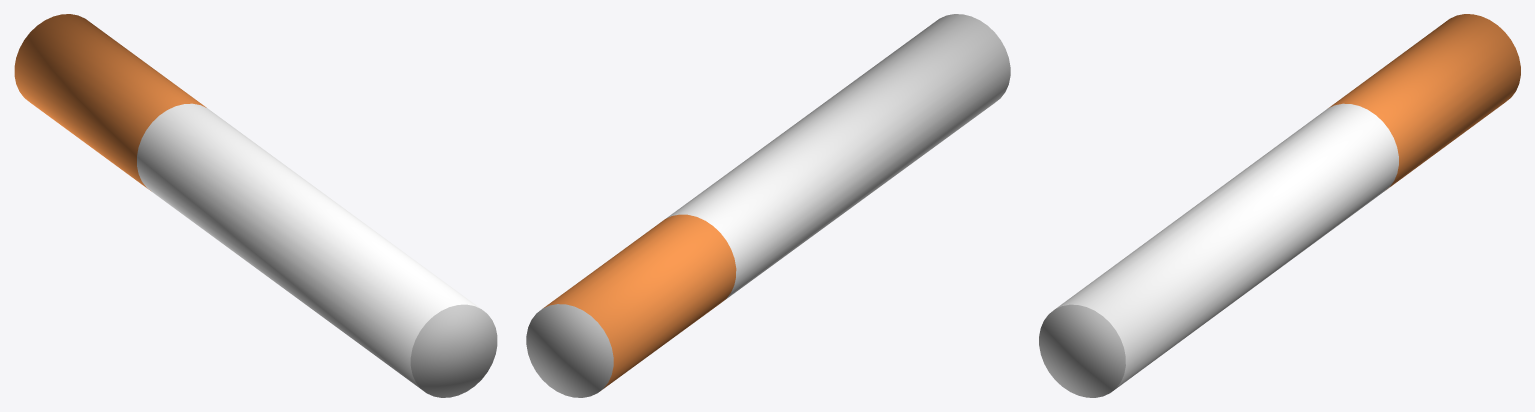
The model's file is CigaretteModel.fbx.
The picture shows the model from 3 angles, left to right: view 1: azimuth 30°, elevation 25°; view 2: azimuth 150°, elevation 25°; view 3: azimuth 330°, elevation 25°; orthographic projection.
Visible parts, largest first — view 1: Cylinder; view 2: Cylinder; view 3: Cylinder.
Boxes of the visible parts, x1=… form: Cylinder: x1=14, y1=14, x2=497, y2=397; Cylinder: x1=526, y1=14, x2=1010, y2=397; Cylinder: x1=1039, y1=14, x2=1520, y2=397.
Size of the model in its own units: 1.28 by 1.29 by 10.07.
